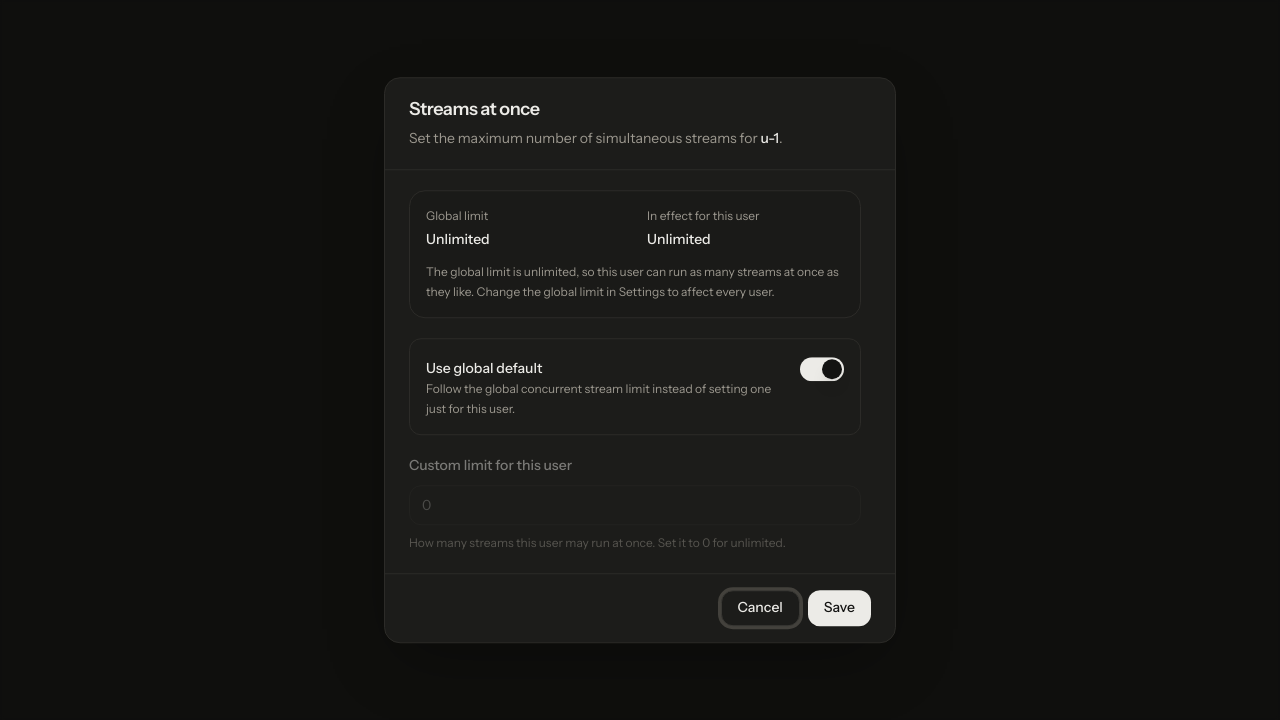
Test: ConcurrentStreamModal › showing which limit is in effect › says every other user stays unlimited when the global limit is off
The image size is (1280, 720).
Check: the text "Use global default" is shown, box [426,360,542,378]
Click the switch at (822, 370), box [800,358,844,382]
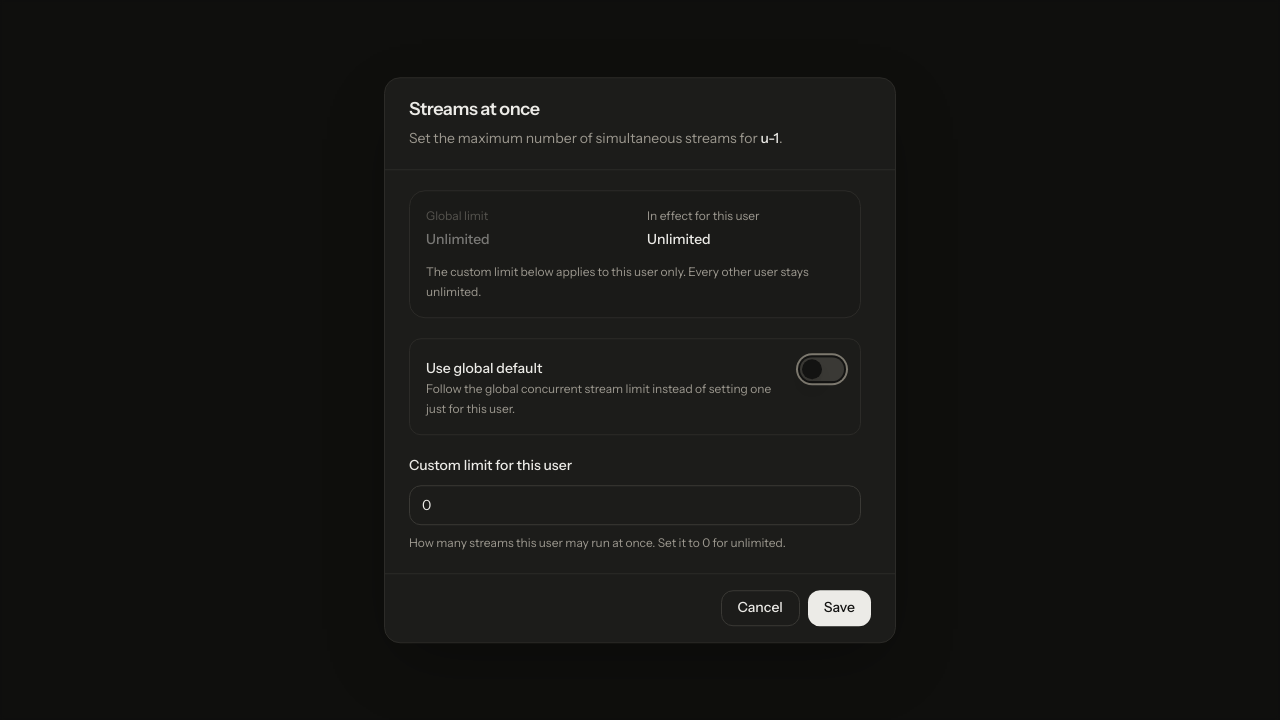
Check: the text "Every other user stays unlimited" is shown, box [426,265,809,299]
